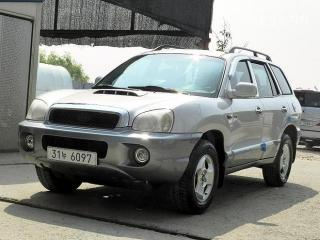0: (75, 152, 81, 162)
1: (57, 150, 61, 160)
3: (51, 149, 57, 159)
6: (70, 151, 76, 162)
7: (86, 153, 93, 163)
9: (81, 153, 87, 163)
plate: (42, 142, 101, 172)
누: (61, 150, 68, 160)
